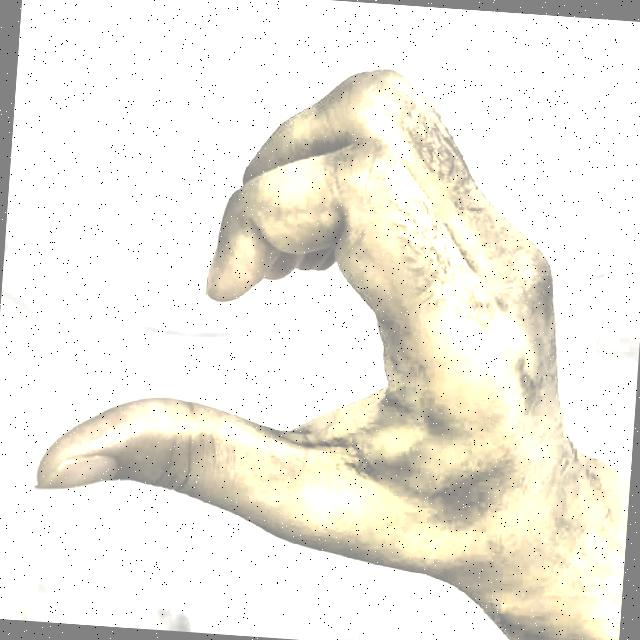Kha: (28, 3, 620, 640)
